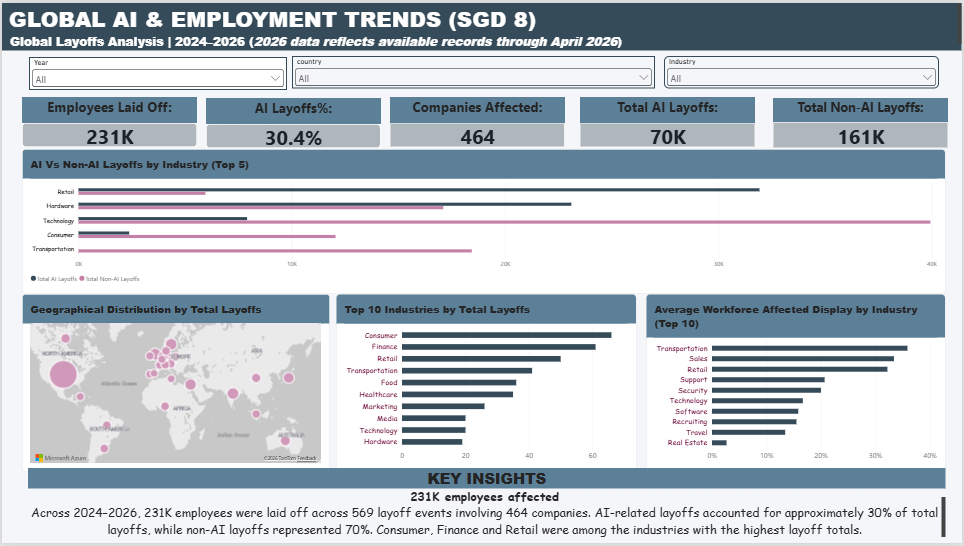

This screenshot's page, from the dashboard's own definition file:
{"tool":"powerbi","page":{"name":"Page 1","canvas":[1920,1080],"ordinal":0},"visuals":[{"type":"cardVisual","title":"AI Layoffs%:","fields":{"Data":["Measures .AI Layoffs Percentage 1"]},"box":[407,189.7,349.6,100.2],"z":0},{"type":"cardVisual","title":"Companies Affected:","fields":{"Data":["Measures .Companies Affected"]},"box":[776.2,187.2,349.6,100.2],"z":1000},{"type":"cardVisual","title":"Total AI Layoffs:","fields":{"Data":["Measures .Total AI Layoffs"]},"box":[1155.1,187.2,350,100],"z":2000},{"type":"cardVisual","title":"Total Non-AI Layoffs:","fields":{"Data":["Measures .Total Non-AI Layoffs"]},"box":[1541.4,189.7,350,100],"z":3000},{"type":"clusteredBarChart","title":"Top 10 Industries by Total Layoffs","fields":{"Category":["Industry.Industry"],"Y":["Measures .Total Layoff Events"]},"box":[668.1,581.6,601.3,355.5],"z":4000},{"type":"clusteredBarChart","title":"AI Vs Non-AI Layoffs by Industry (Top 5)","fields":{"Category":["Industry.Industry"],"Y":["Measures .Total AI Layoffs","Measures .Total Non-AI Layoffs"]},"box":[40.6,292.9,1846.7,288.7],"z":5000},{"type":"clusteredBarChart","title":"Average Workforce Affected Display by Industry (Top 10)","fields":{"Category":["Industry.Industry"],"Y":["Measures .Average Workforce Affected Display"]},"box":[1288.4,581.6,598.9,355.5],"z":6000},{"type":"textbox","box":[0,0,1919.2,95.3],"z":7000},{"type":"cardVisual","title":"Employees Laid Off:","fields":{"Data":["Measures .Total Layoffs"]},"box":[40.3,187.2,350,100],"z":8000},{"type":"azureMap","title":"Geographical Distribution by Total Layoffs","fields":{"Category":["Layoff_Data.country"],"Size":["Measures .Total Layoffs"]},"box":[40.6,581.6,615.6,355.5],"z":9000},{"type":"textbox","title":"KEY INSIGHTS","box":[52.5,930.5,1834.8,138.4],"z":10000},{"type":"slicer","fields":{"Values":["Year.Year"]},"box":[53.3,108.2,515.9,66],"z":11000},{"type":"slicer","fields":{"Values":["Layoff_Data.country"]},"box":[580.4,105.3,726.1,65.5],"z":12000},{"type":"slicer","fields":{"Values":["Industry.Industry"]},"box":[1324,105.3,549.5,65.5],"z":13000}]}

Visuals, with their boxes in screenshot pixels (x1, y1, x2, y2), scaled from the page's 1920x1080 canvas onto the 964x546 screenshot:
"AI Layoffs%:" cardVisual: select_region(204, 96, 380, 147)
"Companies Affected:" cardVisual: select_region(390, 95, 565, 145)
"Total AI Layoffs:" cardVisual: select_region(580, 95, 756, 145)
"Total Non-AI Layoffs:" cardVisual: select_region(774, 96, 950, 146)
"Top 10 Industries by Total Layoffs" clusteredBarChart: select_region(335, 294, 637, 474)
"AI Vs Non-AI Layoffs by Industry (Top 5)" clusteredBarChart: select_region(20, 148, 948, 294)
"Average Workforce Affected Display by Industry (Top 10)" clusteredBarChart: select_region(647, 294, 948, 474)
textbox: select_region(0, 0, 963, 48)
"Employees Laid Off:" cardVisual: select_region(20, 95, 196, 145)
"Geographical Distribution by Total Layoffs" azureMap: select_region(20, 294, 329, 474)
"KEY INSIGHTS" textbox: select_region(26, 470, 948, 540)
slicer - Year.Year: select_region(27, 55, 286, 88)
slicer - Layoff_Data.country: select_region(291, 53, 656, 86)
slicer - Industry.Industry: select_region(665, 53, 941, 86)
